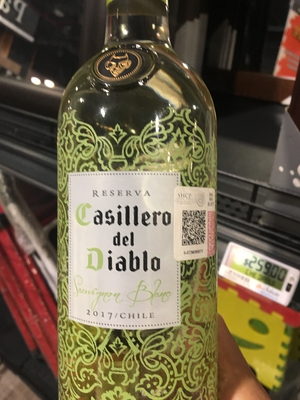casillero del diablo sauvignon blanc: (52, 9, 224, 400)
